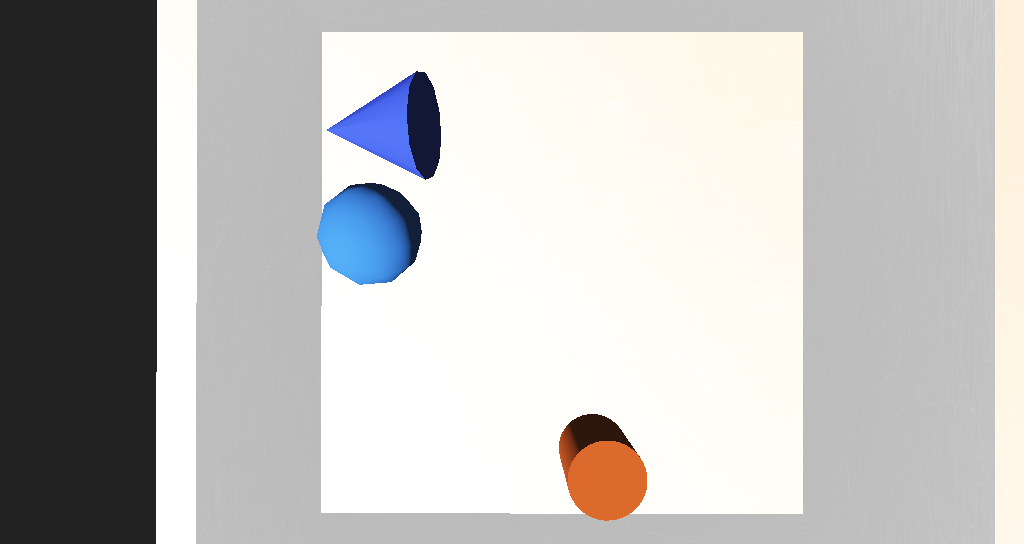cone: (509, 332, 556, 375)
cylinder: (347, 181, 435, 229)
sphere: (360, 231, 421, 274)
